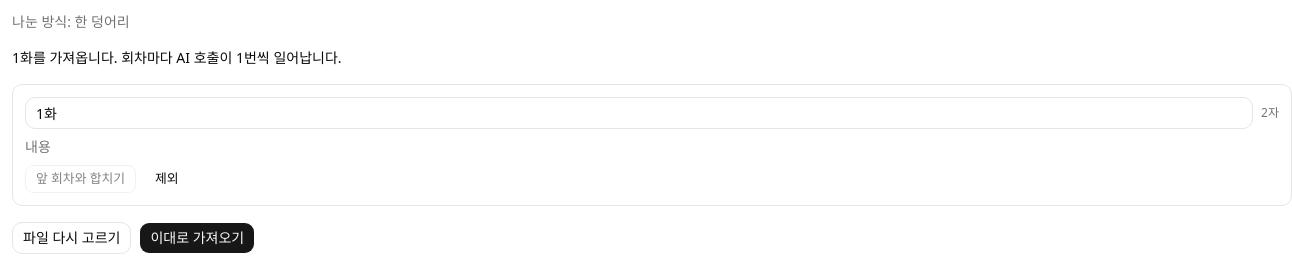
Test: SplitPreview › disables the upload button when every chapter is excluded
Click the button "제외". click: point(167, 179)
box: [144,165,190,193]
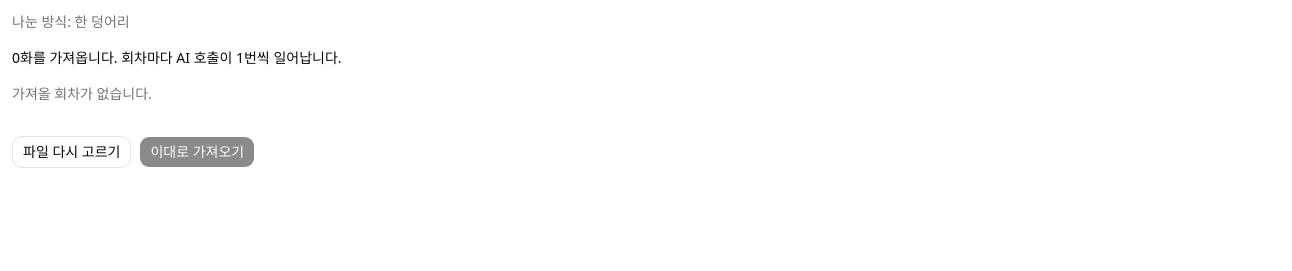
Expected: the button "이대로 가져오기" is disabled, [140,136,255,168]
